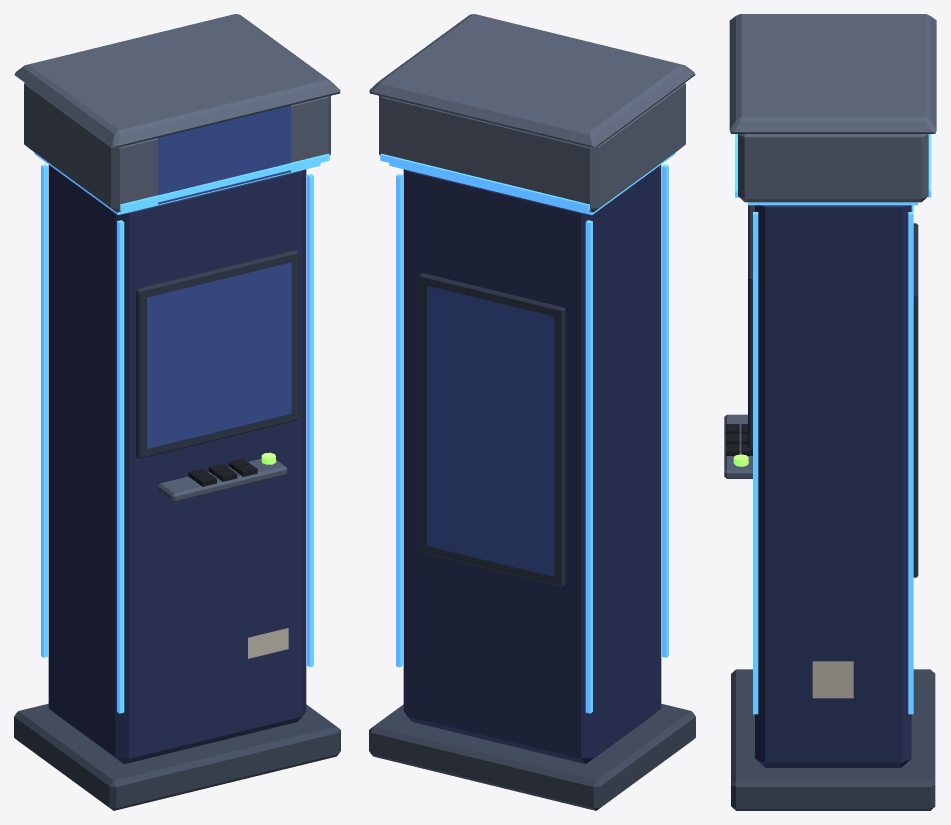
File: city_kiosk.glb
3 renders of one model, left to right at view 1: azimuth 30°, elevation 25°; view 2: azimuth 150°, elevation 25°; view 3: azimuth 270°, elevation 25°, orthographic.
Visible parts, largest first — view 1: body, header, map, plinth, header_glow, news, map_frame, shelf, sticker; view 2: body, header, ad, plinth, header_glow, ad_frame; view 3: body, header, plinth, header_glow, ad_frame, warning, map_frame, shelf.
Part boxes in pixels (box(x1,y1,x2,y2)): body: box(48, 165, 306, 764); header: box(14, 14, 340, 212); map: box(147, 262, 291, 448); plinth: box(14, 703, 340, 810); header_glow: box(34, 152, 329, 713); news: box(158, 105, 290, 204); map_frame: box(136, 250, 299, 458); shelf: box(158, 458, 287, 502); sticker: box(248, 628, 288, 658); body: box(403, 165, 661, 764); header: box(369, 14, 695, 212); ad: box(427, 285, 554, 576); plinth: box(369, 703, 695, 810); header_glow: box(380, 152, 675, 713); ad_frame: box(419, 273, 565, 586); body: box(755, 205, 911, 767); header: box(729, 14, 936, 202); plinth: box(731, 669, 935, 810); header_glow: box(735, 134, 931, 714); ad_frame: box(913, 223, 918, 577); warning: box(812, 661, 853, 698); map_frame: box(748, 205, 754, 449); shelf: box(724, 414, 752, 478).
Bounding box in the file's own units: 0.8 × 2.23 × 0.6239.
